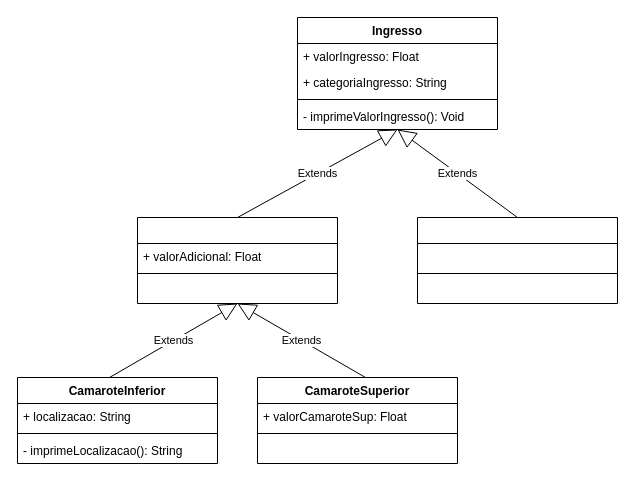
Some shapes in this 635 by 484 pixel diagram are drawn without their labels. Here are the shapes that lost their labels. From the top down, the box of each, then its label:
(136, 216, 338, 304): IngressoVIP
(416, 216, 618, 304): IngressoNormal
